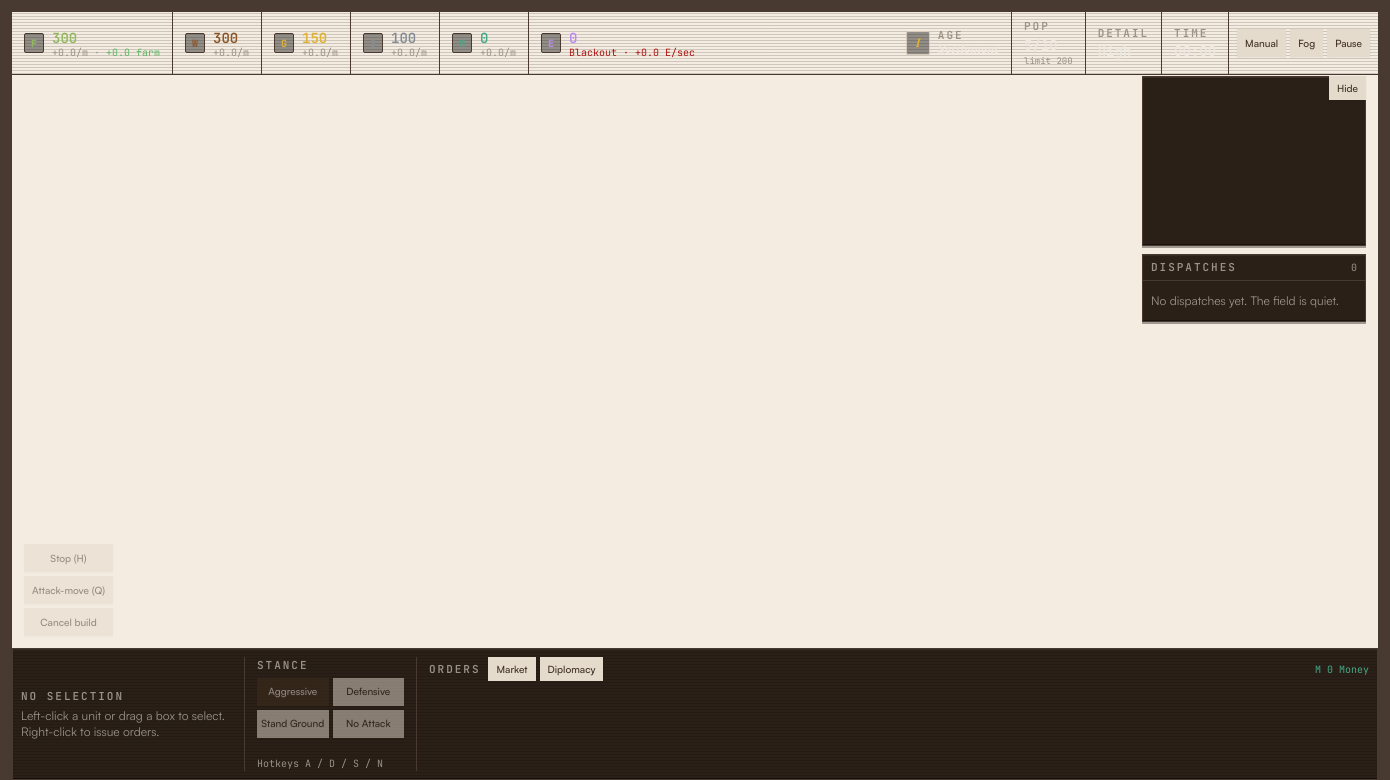
Test: MatchPage › queues multiple orders with Shift and shows the order queue indicator
Press the mouse on the drawing named "Battlefield view" at (695, 396), box [12, 12, 1378, 779]
Press the mouse on the drawing named "Battlefield view" at (695, 396), box [12, 12, 1378, 779]
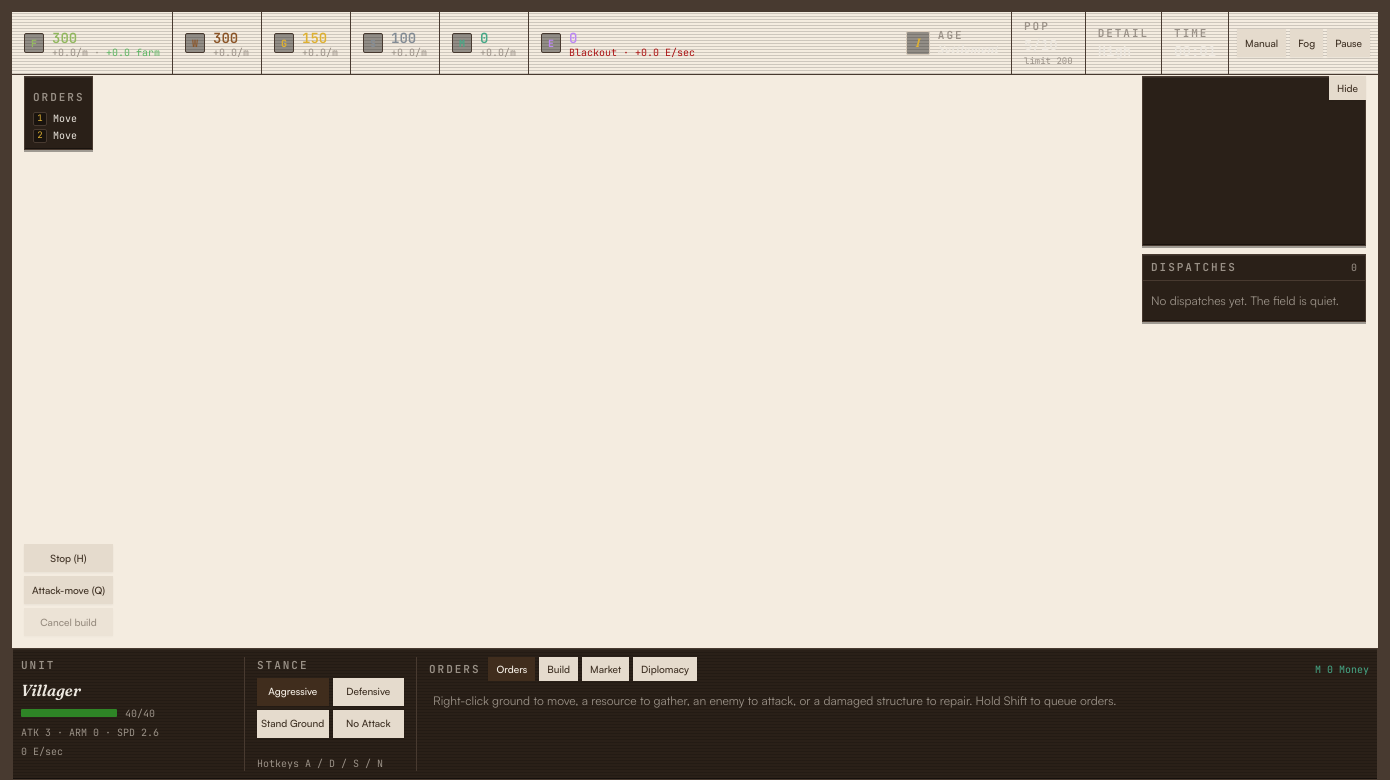
Expected: the element showing "Orders 1 Move 2 Move" is shown, [24, 76, 94, 150]
